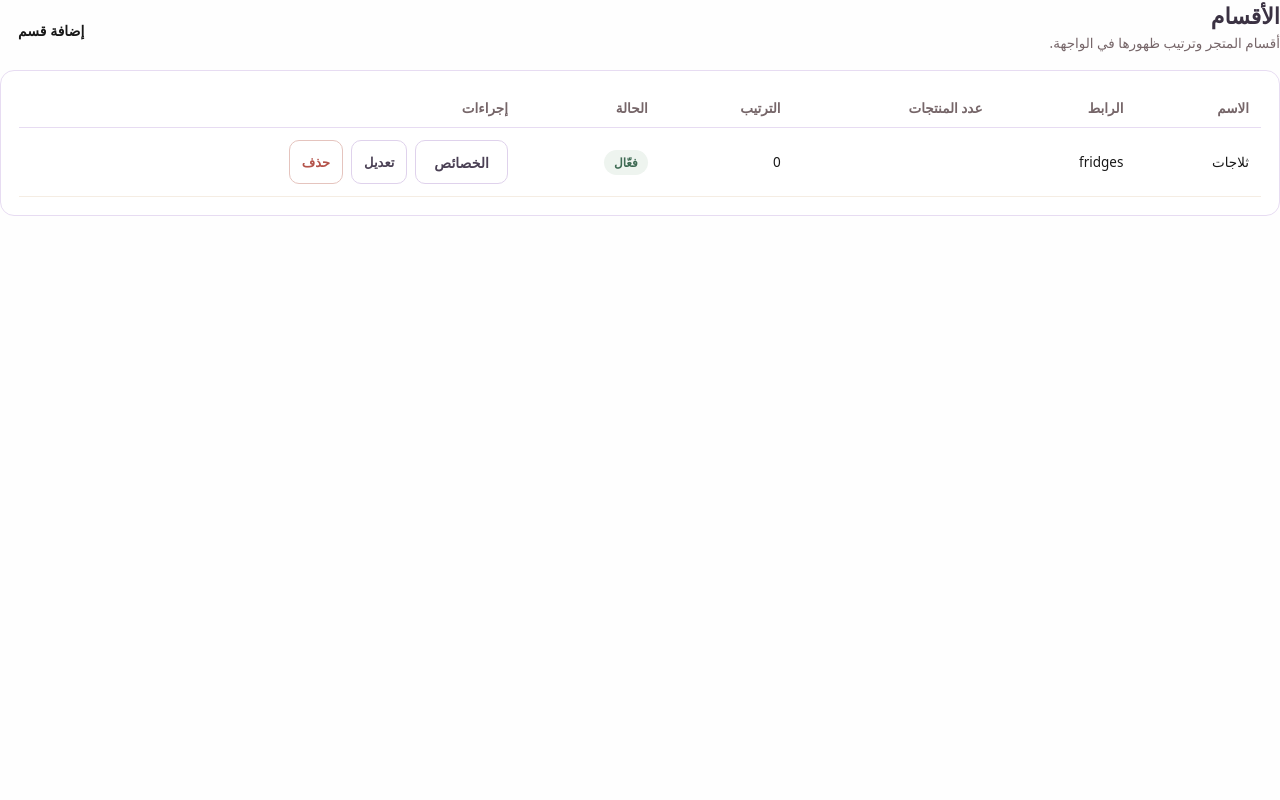
Scenario: category attribute management › edits ordering and displays backend validation errors
Click the button "الخصائص" at (462, 162), box [415, 140, 508, 184]
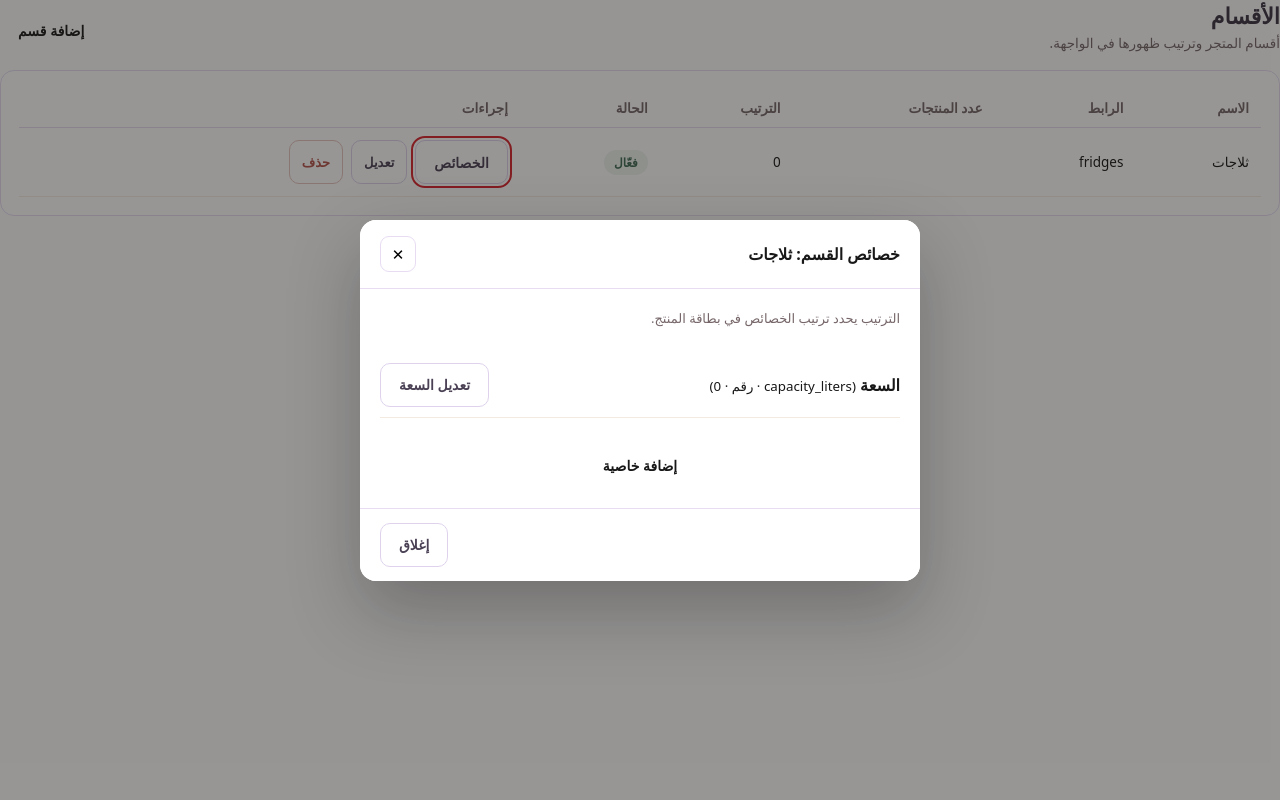
Click the button "تعديل السعة" at (434, 384), box [380, 362, 489, 406]
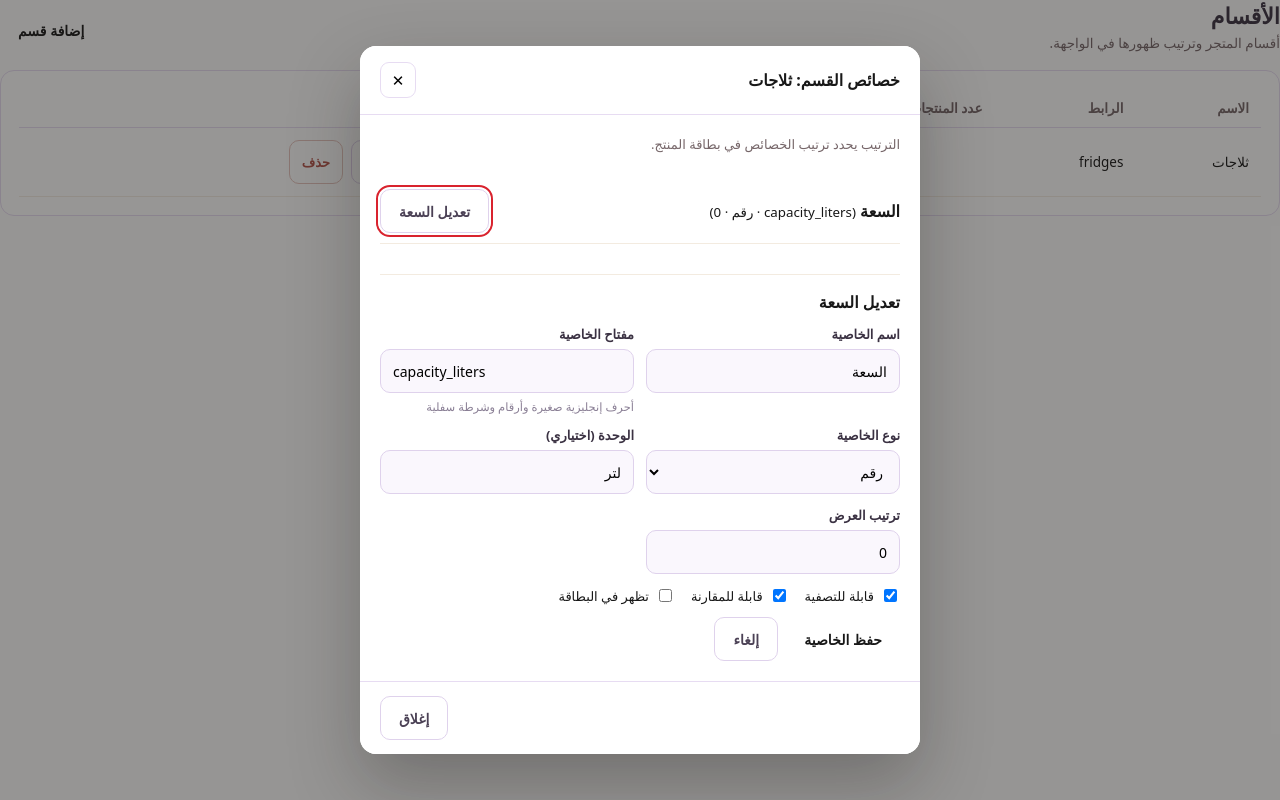
Replace the text in the number field labelled "ترتيب العرض" with "2" at (773, 552), box [646, 530, 900, 574]
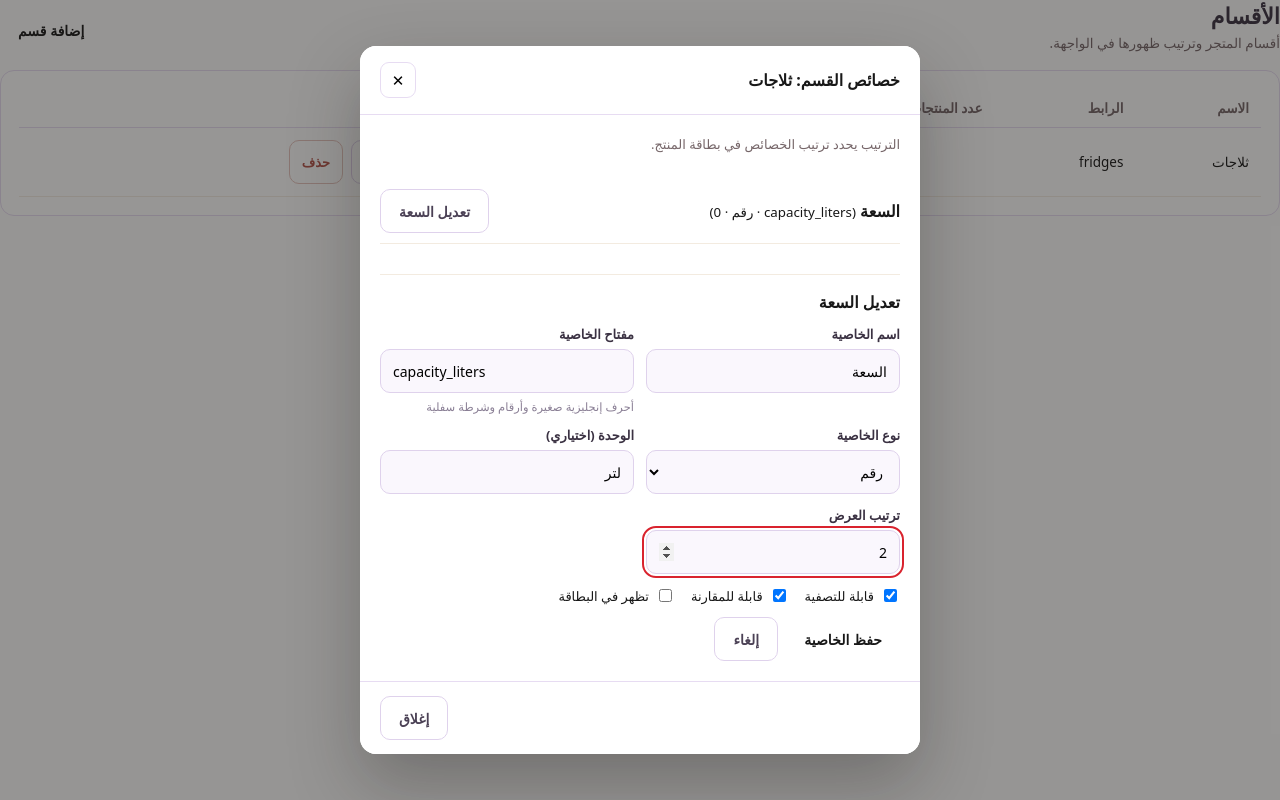
Click the checkbox labelled "تظهر في البطاقة" at (666, 596), box [659, 589, 672, 602]
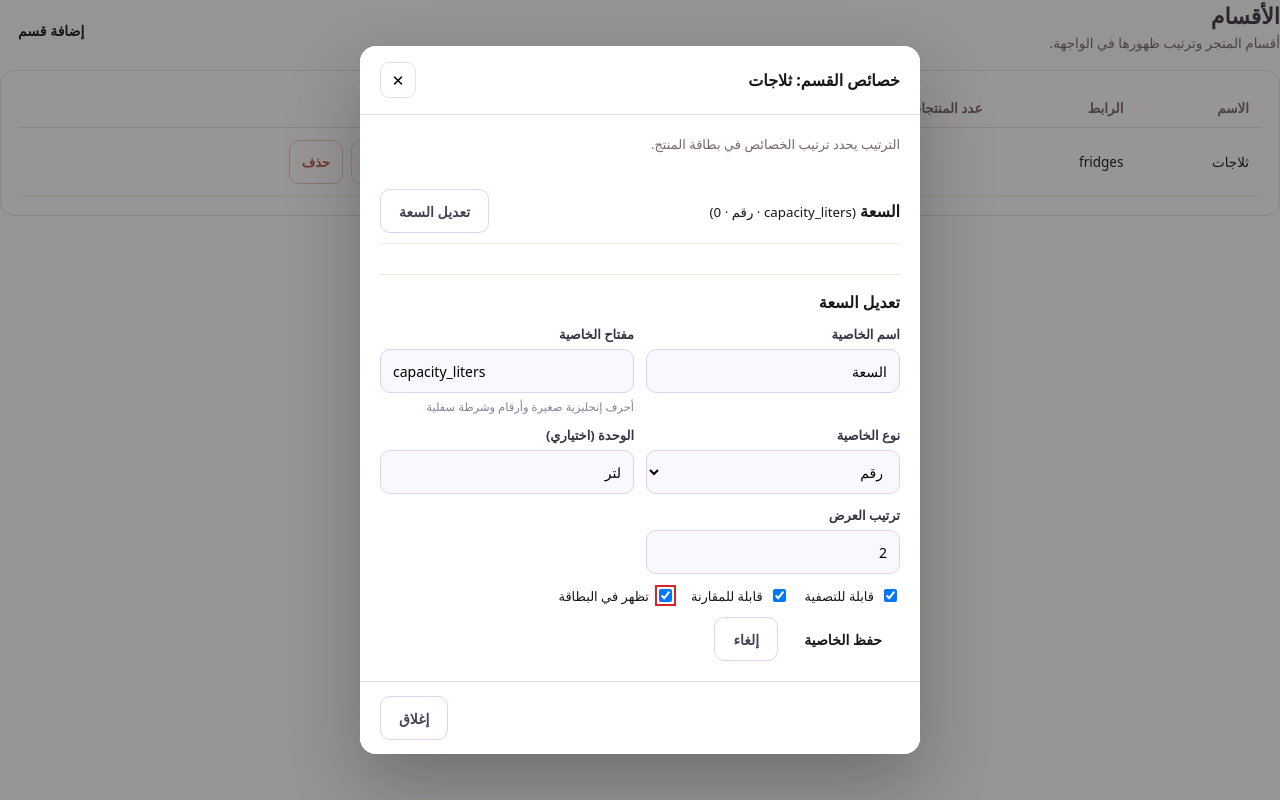
Click the button "حفظ الخاصية" at (843, 639), box [786, 617, 900, 661]
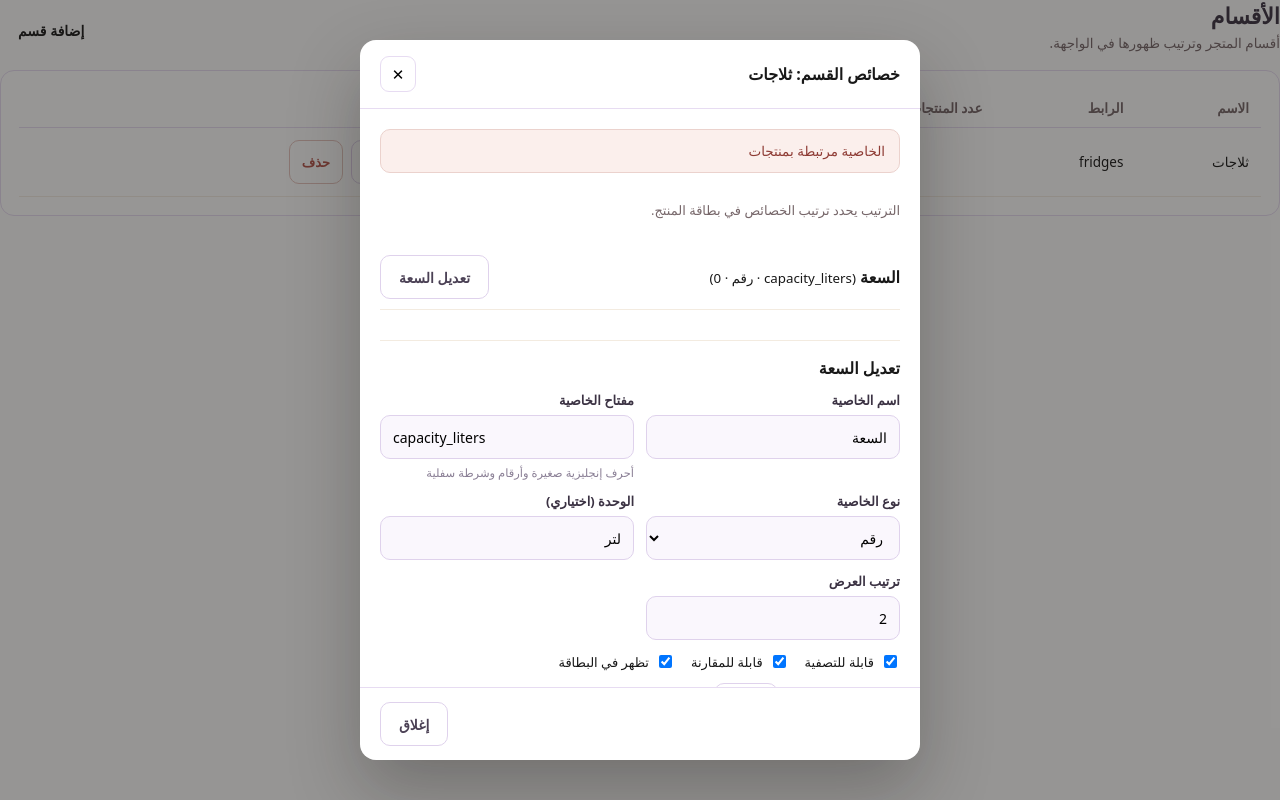
Expected: the text "الخاصية مرتبطة بمنتجات" is shown, [380, 129, 900, 173]
